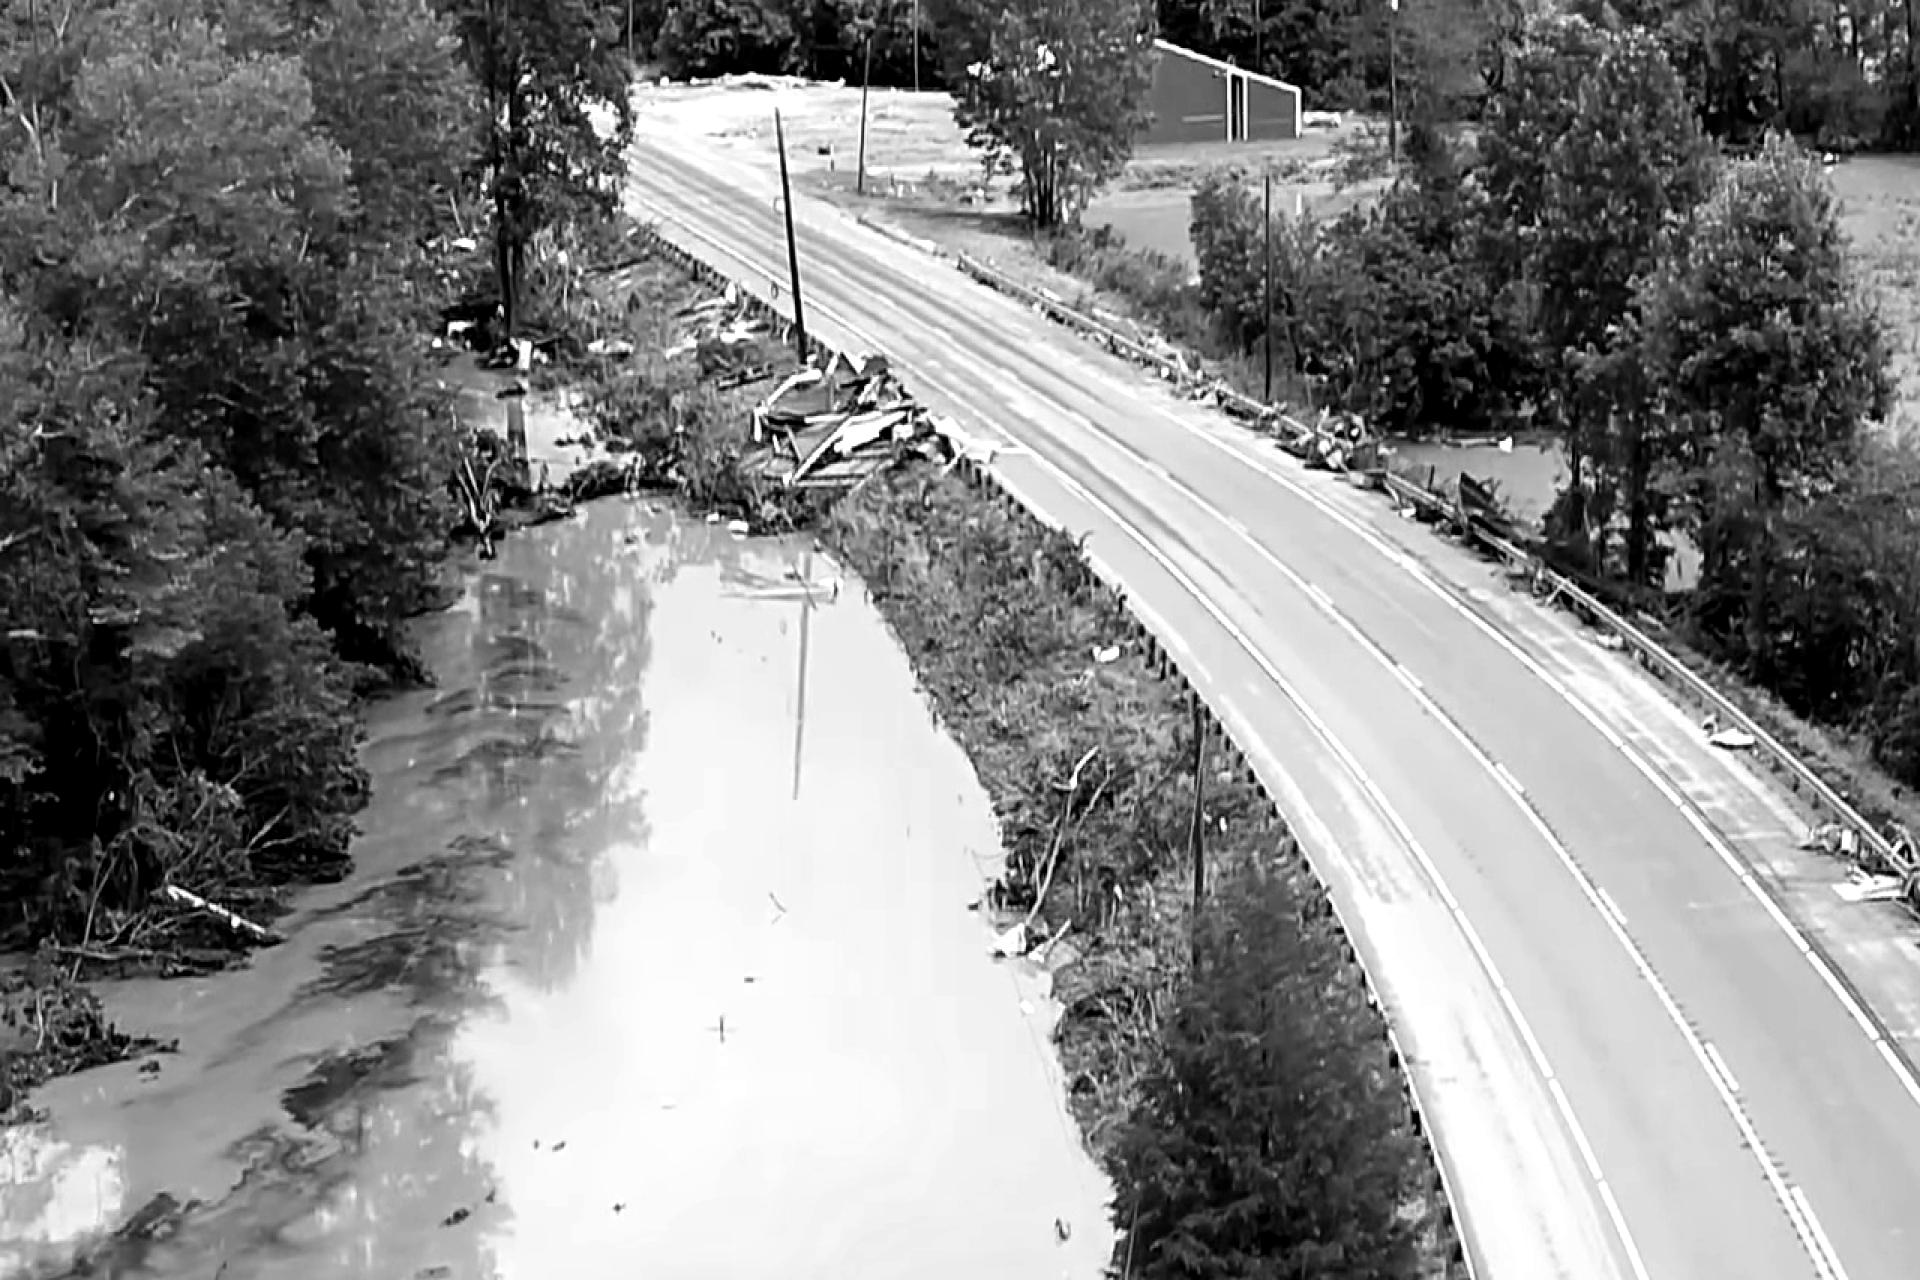House: (979, 37, 1303, 150)
